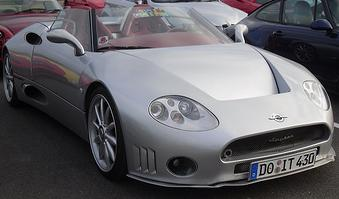front_view: (141, 65, 333, 186)
headlight: (143, 89, 232, 141)
side_glass: (47, 0, 94, 55)
